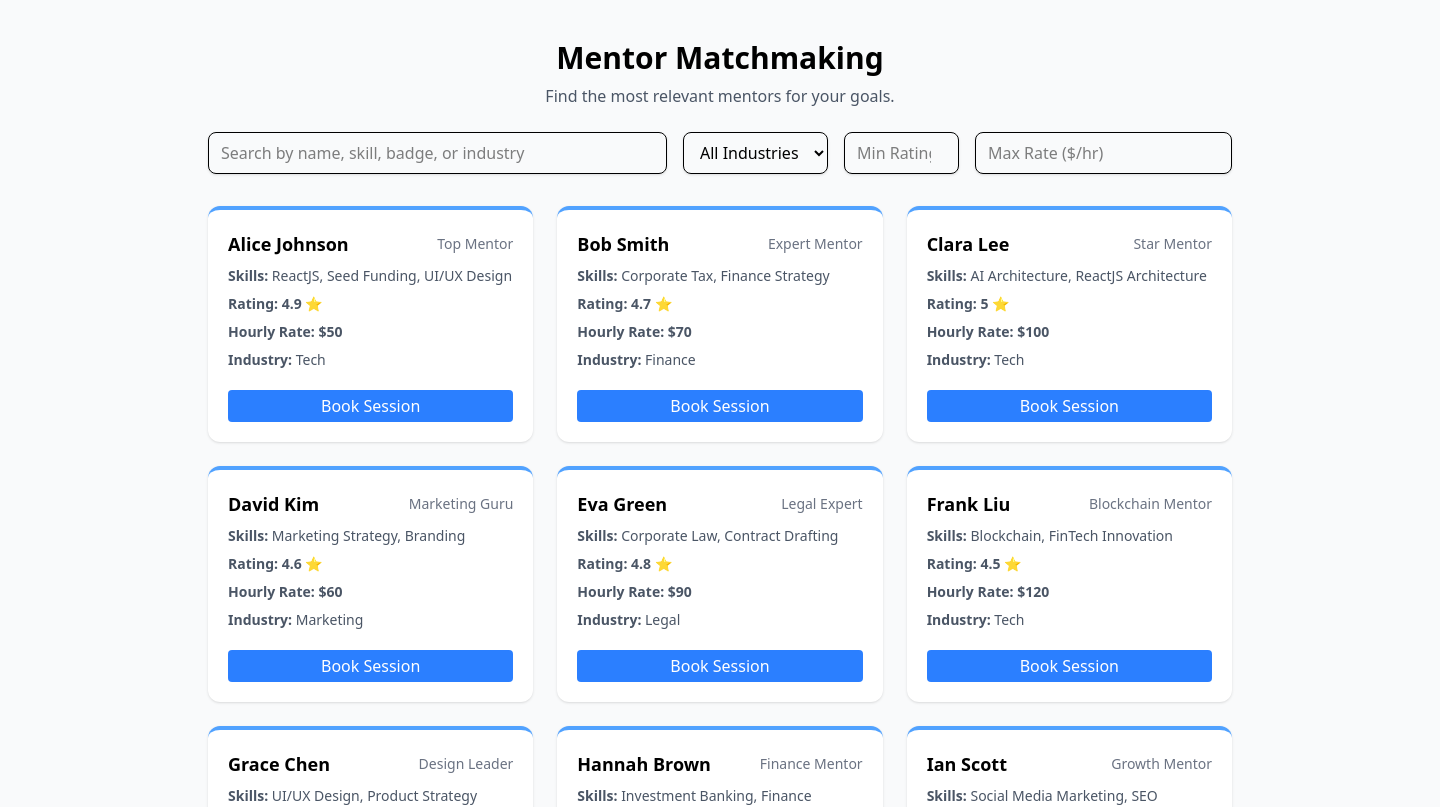
it: MentorMatchmaking › should open the booking modal with the selected mentor's details
The width and height of the screenshot is (1440, 807).
What coordinates should you click on to do the following:
click the button "Book Session" below "50"
I would click on:
 (371, 406)
Its box is [228,390,513,422].
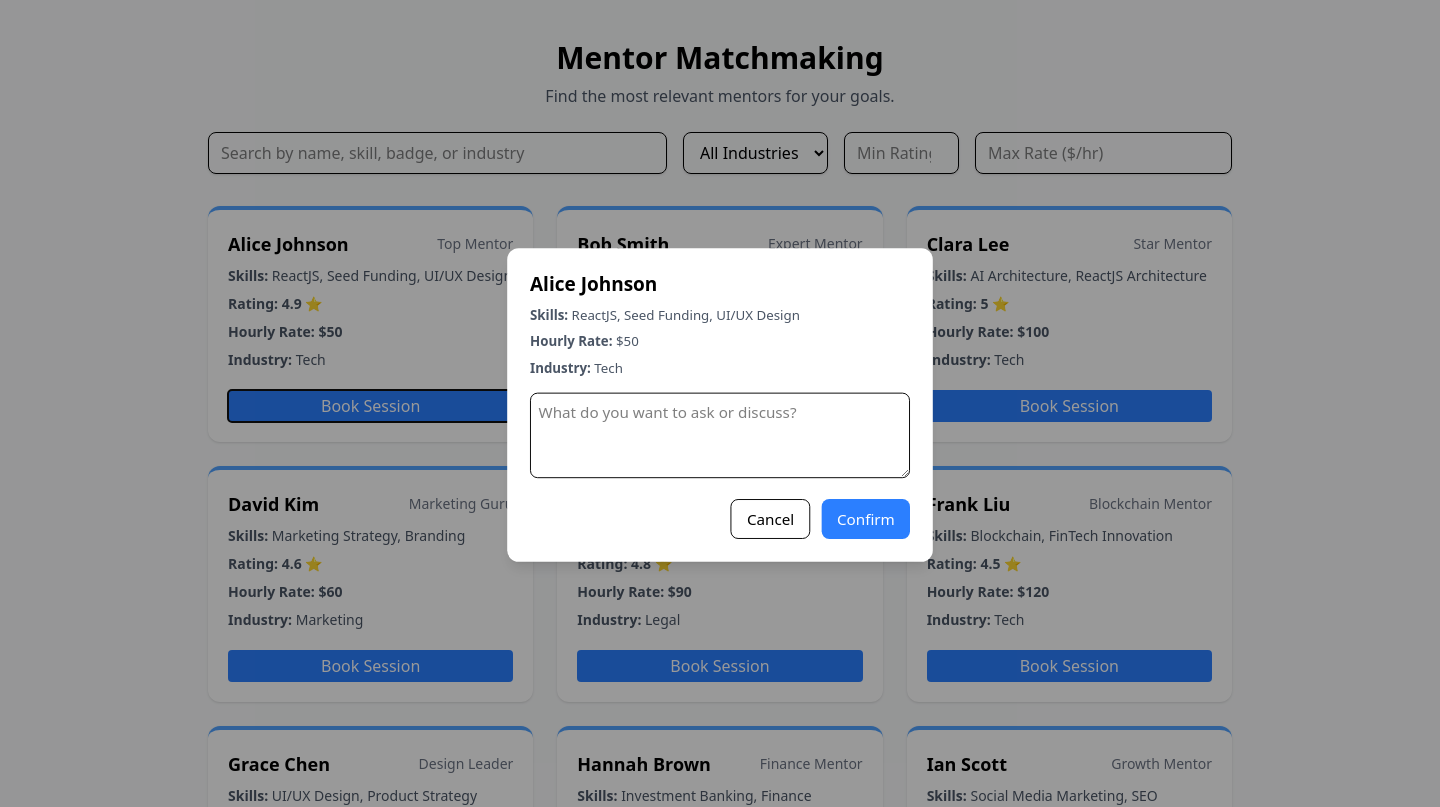
Result: the text box with placeholder "What do you want to ask or discuss?" is shown at [530,393,910,478]
Result: the button "Cancel" is shown at [731,499,810,539]
Result: the button "Confirm" is shown at [822,499,910,539]
